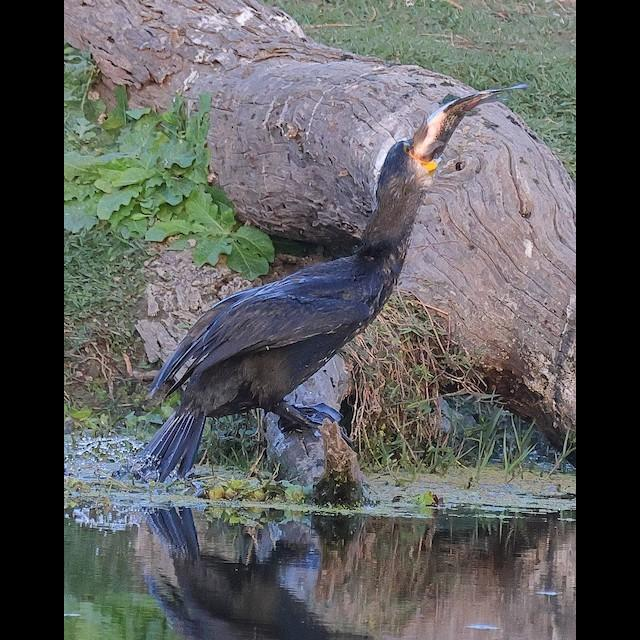cormorant: (126, 66, 530, 500)
